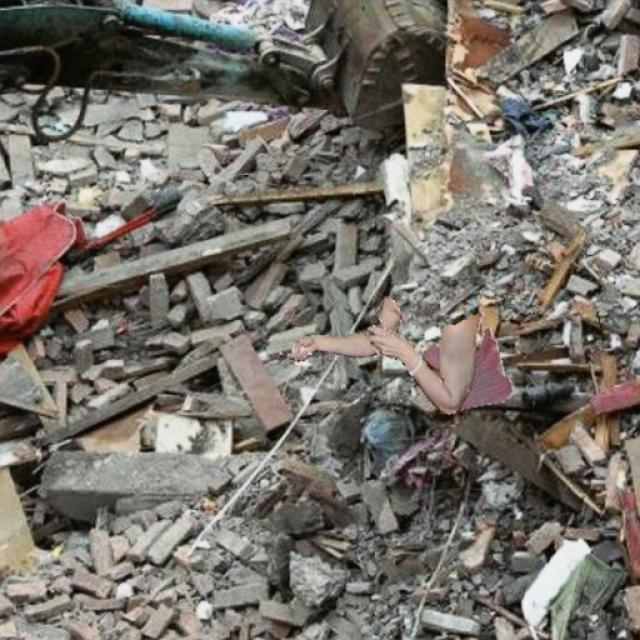Person in Rubble: (278, 296, 602, 414)
